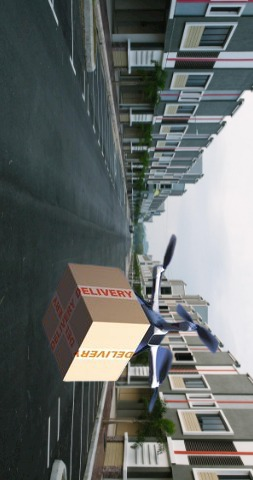drone: (40, 235, 220, 412)
